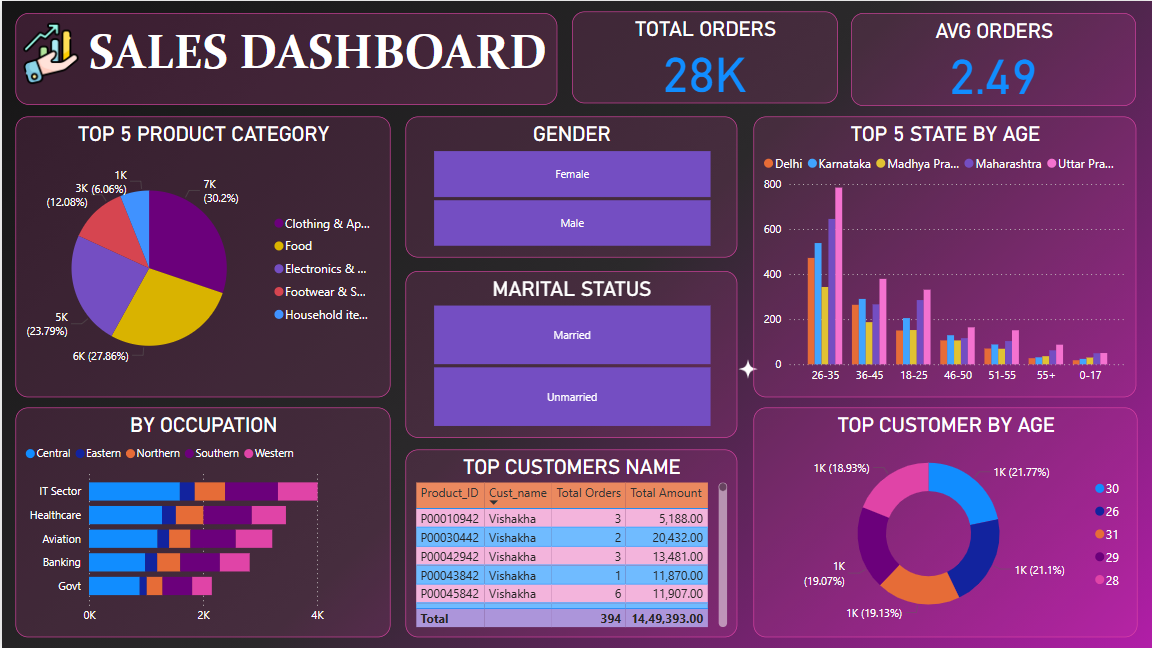

This screenshot's page, from the dashboard's own definition file:
{"tool":"powerbi","page":{"name":"Dashboard","canvas":[1280,720],"ordinal":1},"visuals":[{"type":"pieChart","title":"TOP 5 PRODUCT CATEGORY","fields":{"Category":["sales_data.Product_Category"],"Y":["sales_data.Orders"]},"box":[15,128.3,416.7,311.7],"z":0},{"type":"textbox","box":[15,13.3,601.7,101.7],"z":1000},{"type":"clusteredColumnChart","title":"TOP 5 STATE BY AGE","fields":{"Category":["sales_data.Age Group"],"Y":["sales_data.Orders"],"Series":["sales_data.State"]},"box":[835,128.3,425,311.7],"z":2000},{"type":"barChart","title":"BY OCCUPATION","fields":{"Category":["sales_data.Occupation"],"Y":["sales_data.Orders"],"Series":["sales_data.Zone"]},"box":[15,451.7,416.7,255],"z":3000},{"type":"donutChart","title":"TOP CUSTOMER BY AGE","fields":{"Y":["sales_data.Orders"],"Category":["sales_data.Age"]},"box":[835,451.7,426.7,255],"z":4000},{"type":"card","title":"TOTAL ORDERS","fields":{"Values":["sales_data.Orders"]},"box":[633.3,11.7,295,101.7],"z":5000},{"type":"tableEx","title":"TOP CUSTOMERS NAME","fields":{"Values":["sales_data.Product_ID","sales_data.Cust_name","sales_data.Orders","sales_data.Amount"]},"box":[448.3,498.3,368.3,208.3],"z":6000},{"type":"card","title":"AVG ORDERS","fields":{"Values":["sales_data.Orders"]},"box":[943.3,13.3,316.7,103.3],"z":6001},{"type":"slicer","title":"GENDER","fields":{"Values":["sales_data.Gender"]},"box":[448.3,128.3,368.3,156.7],"z":6002},{"type":"slicer","title":"MARITAL STATUS","fields":{"Values":["sales_data.Marital_Status"]},"box":[448.3,300,368.3,185],"z":6003},{"type":"image","box":[15,11.7,78.3,93.3],"z":6004}]}

Visuals, with their boxes in screenshot pixels (x1, y1, x2, y2), scaled from the page's 1280x720 canvas onto the 1152x648 screenshot:
"TOP 5 PRODUCT CATEGORY" pieChart: bbox(14, 115, 389, 396)
textbox: bbox(14, 12, 555, 104)
"TOP 5 STATE BY AGE" clusteredColumnChart: bbox(752, 115, 1134, 396)
"BY OCCUPATION" barChart: bbox(14, 407, 389, 636)
"TOP CUSTOMER BY AGE" donutChart: bbox(752, 407, 1136, 636)
"TOTAL ORDERS" card: bbox(570, 11, 835, 102)
"TOP CUSTOMERS NAME" tableEx: bbox(403, 448, 735, 636)
"AVG ORDERS" card: bbox(849, 12, 1134, 105)
"GENDER" slicer: bbox(403, 115, 735, 256)
"MARITAL STATUS" slicer: bbox(403, 270, 735, 436)
image: bbox(14, 11, 84, 94)
